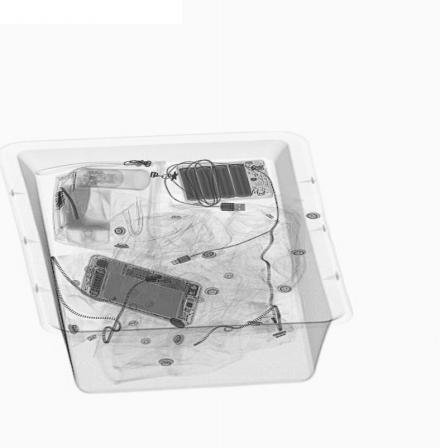Powerbank: (175, 160, 277, 204)
